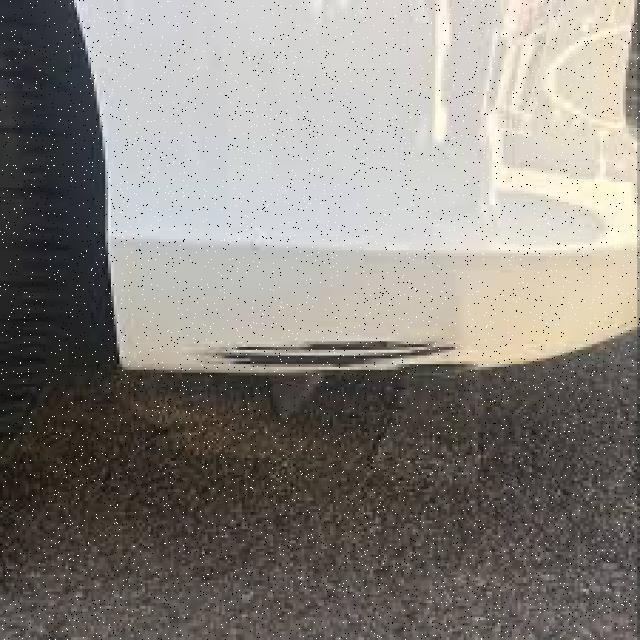front-bumper-dent: (0, 6, 637, 382)
